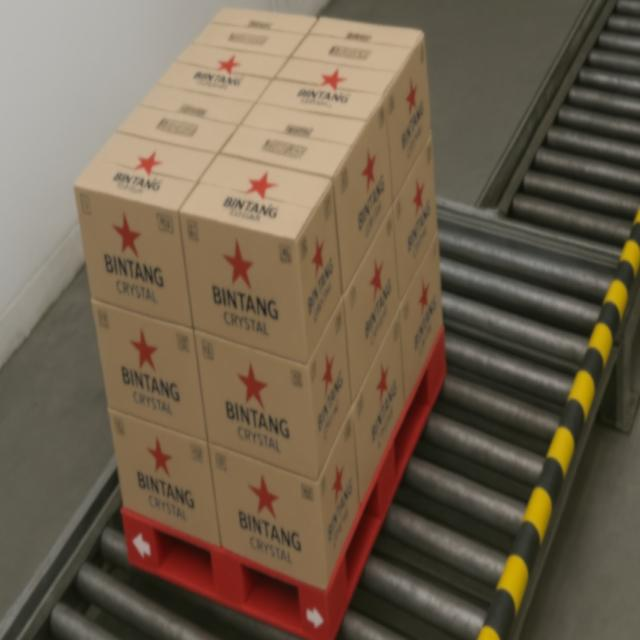pallet: (69, 0, 455, 640)
